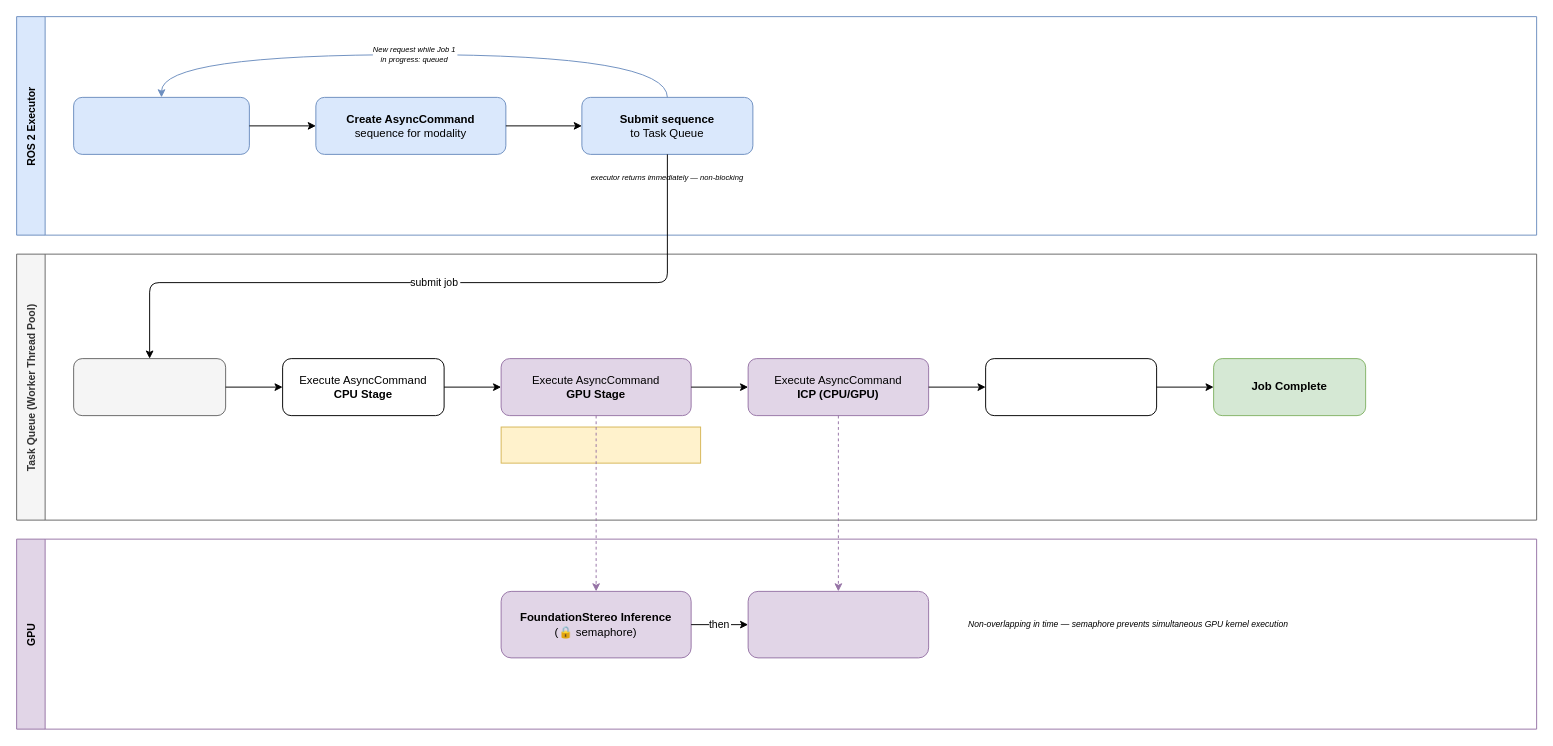
This 1553x746 diagram has some shape labels left out. The centre of each missing label's shape, as x and y in pixels:
"3DGS Rendering (taichi-splatting) (🔒 semaphore)" belongs at [838,624].
"Execute AsyncCommand Pose Correction" belongs at [1071,387].
"Queue Job 1 → Job 2 → …" belongs at [149,387].
"Sensor Callback new image / LiDAR scan received" belongs at [161,125].
"🔒 GPU Semaphore: max 1 concurrent GPU job" belongs at [600,444].
